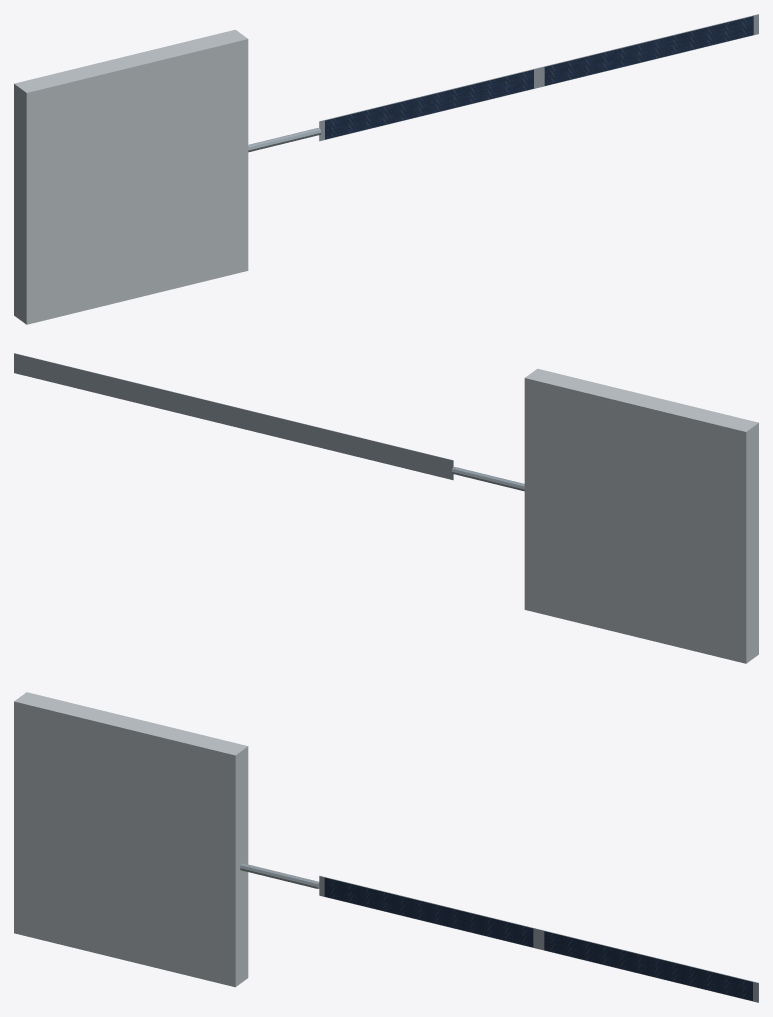
File: ref-sw27-63599.glb
3 renders of one model, top to bottom at view 1: azimuth 30°, elevation 25°; view 2: azimuth 150°, elevation 25°; view 3: azimuth 330°, elevation 25°, orthographic.
Parts seen in each view (by area): view 1: Spacecraft body, Photovoltaic laminates (×2), Array frame (×2), Solar array drive; view 2: Spacecraft body, Array frame (×2), Solar array drive; view 3: Spacecraft body, Photovoltaic laminates (×2), Array frame (×2), Solar array drive.
Part boxes in pixels (box(x1,y1,x2,y2)): Spacecraft body: box(14, 29, 248, 324); Photovoltaic laminates (×2): box(325, 16, 753, 139); Array frame (×2): box(319, 14, 758, 141); Solar array drive: box(248, 128, 321, 152); Spacecraft body: box(524, 368, 758, 663); Array frame (×2): box(14, 353, 453, 480); Solar array drive: box(451, 467, 524, 491); Spacecraft body: box(14, 692, 248, 987); Photovoltaic laminates (×2): box(324, 878, 752, 1000); Array frame (×2): box(319, 875, 758, 1002); Solar array drive: box(240, 863, 319, 888).
Size of the model in its own units: 10 by 3 by 0.3.
3 materials, 1 textured.
